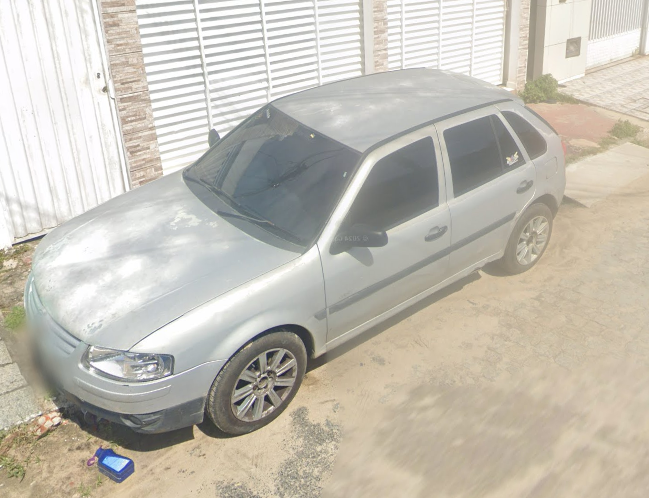car: (26, 65, 573, 434)
